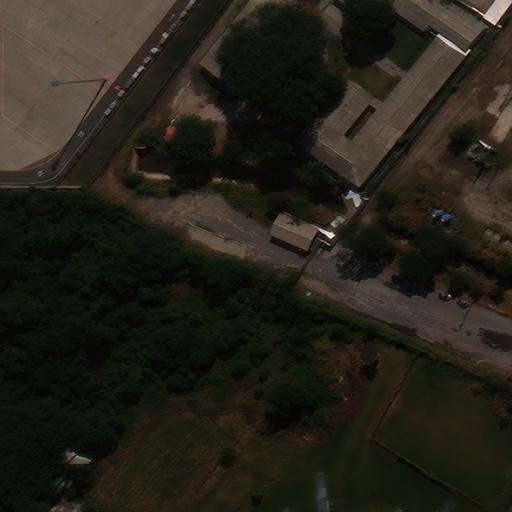Military Transport: (295, 472, 357, 512)
